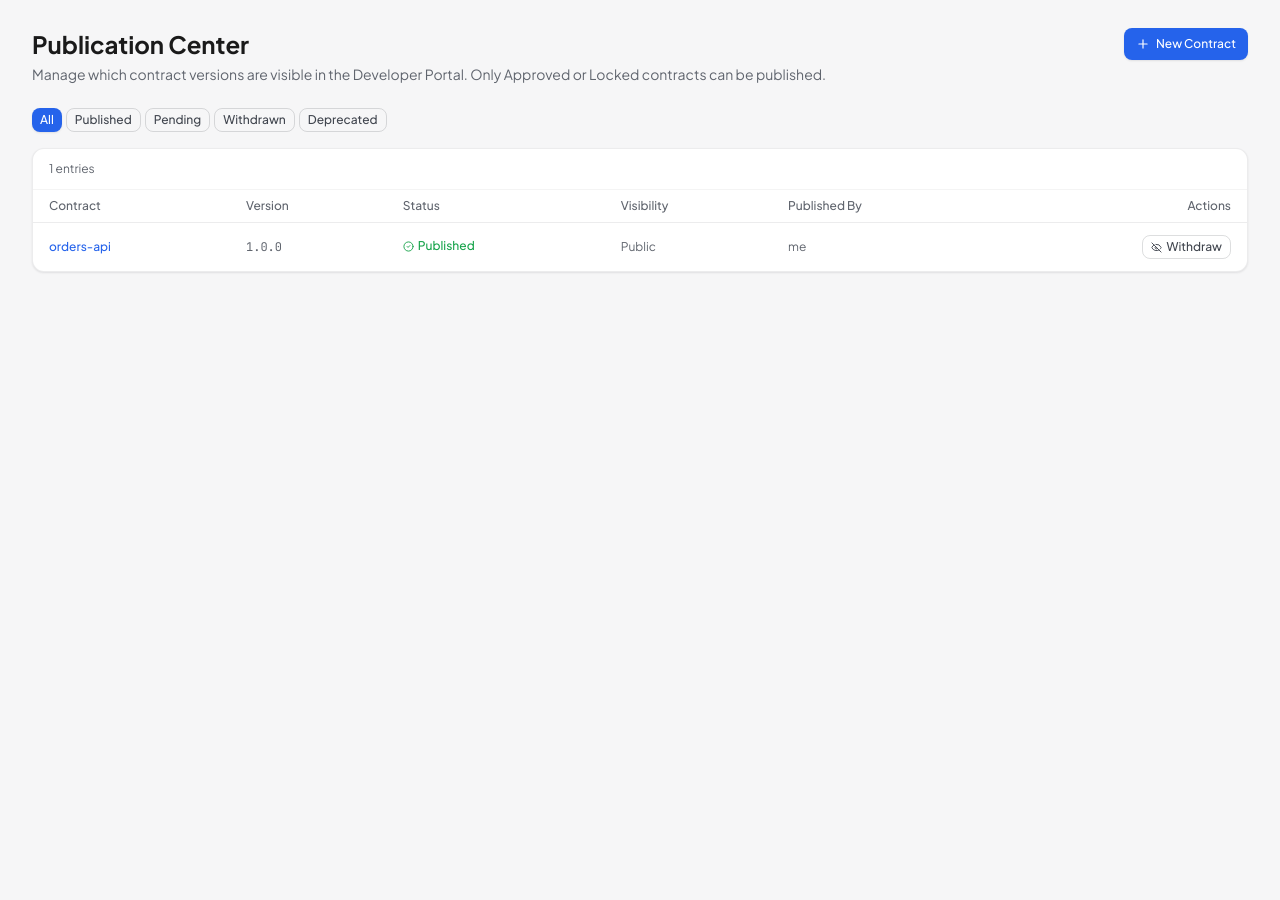
it: PublicationCenterPage hardening › opens the withdraw confirmation with a reason field
The image size is (1280, 900).
Check: the field labelled "Reason" is not shown
// Match exato "Withdraw" (o filtro "Withdrawn" também casaria /withdraw/i).
Click the button "Withdraw" at {"x": 1187, "y": 247}, box [1142,235,1231,259]
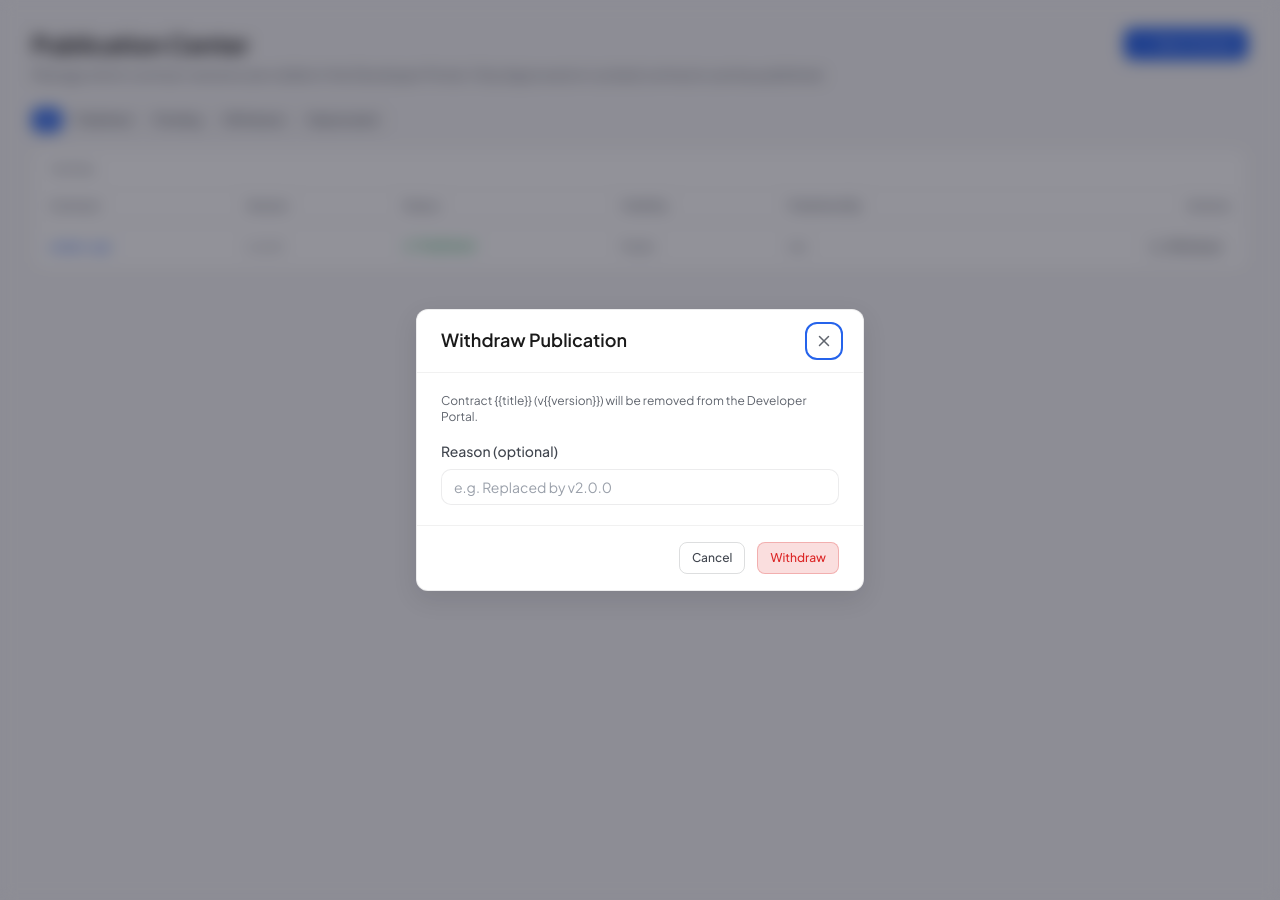
Check: the field labelled "Reason (optional)" is shown, box [441,469,839,505]
